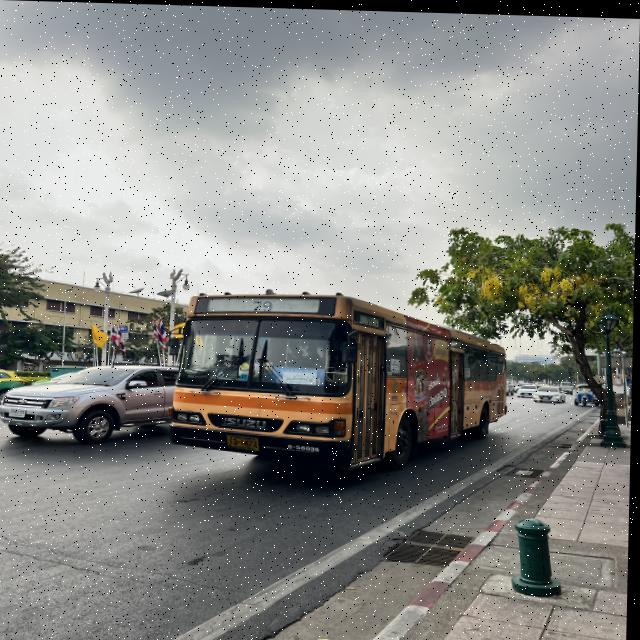BMTA-bus: (172, 291, 510, 473)
Bus Line Number: (248, 297, 285, 313), (365, 313, 380, 325)
Bus Side Number: (287, 440, 324, 453)
Destination Sign: (276, 363, 326, 385)
